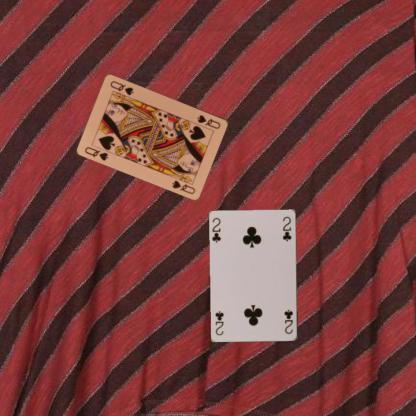2c: (210, 215, 222, 244), (282, 307, 294, 335)
Qs: (82, 144, 110, 162), (195, 112, 222, 130)
